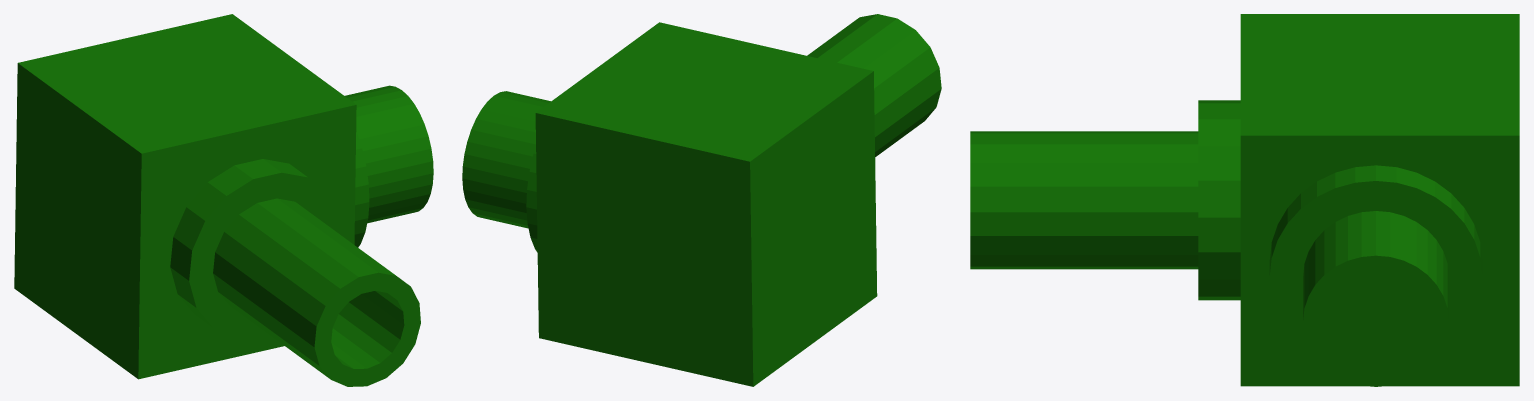
The model's file is assembly_regulator_part_green.dae.
The picture shows the model from 3 angles, left to right: view 1: azimuth 30°, elevation 25°; view 2: azimuth 150°, elevation 25°; view 3: azimuth 270°, elevation 25°; orthographic projection. The views are drawn at different scales.
Parts seen in each view (by area): view 1: Out_Regulator; view 2: Out_Regulator; view 3: Out_Regulator.
Part boxes in pixels (left/top/right/bottom): Out_Regulator: left=14, top=14, right=433, bottom=386; Out_Regulator: left=462, top=14, right=941, bottom=386; Out_Regulator: left=970, top=14, right=1519, bottom=386.
Bounding box in the file's own units: 0.1015 × 0.1327 × 0.0684.
